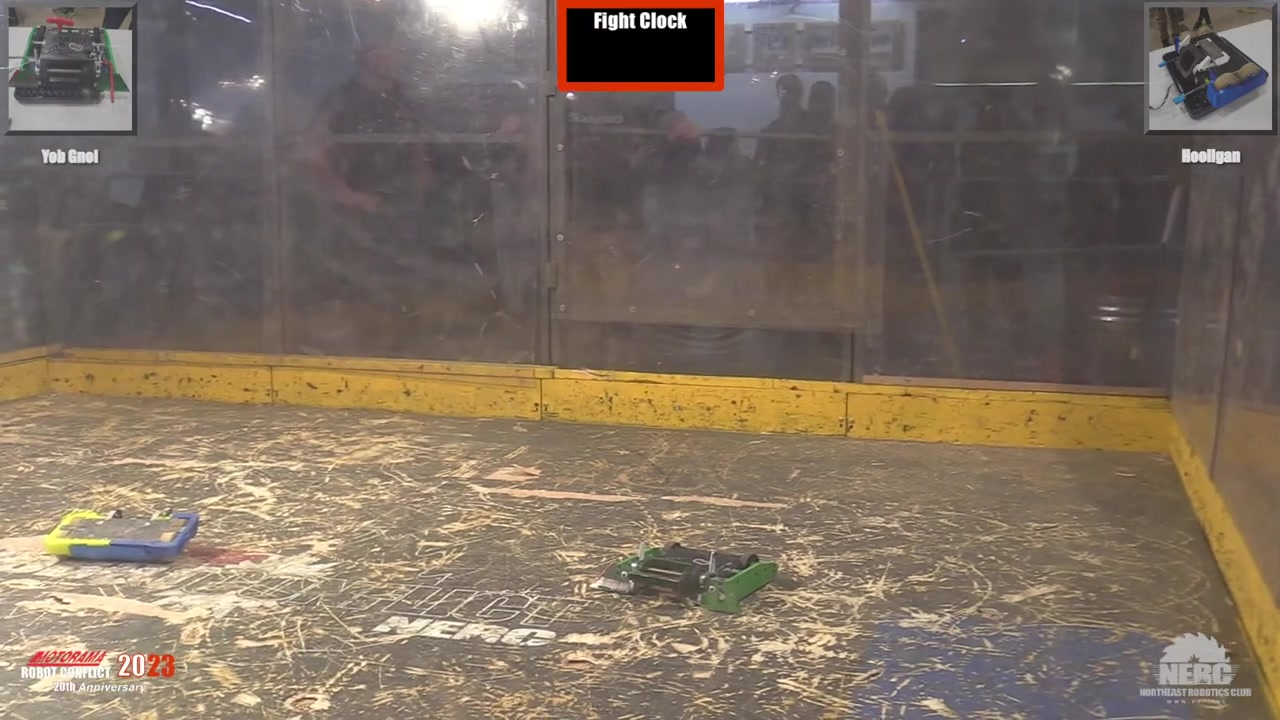combatbot: (590, 546, 777, 617), (47, 508, 201, 561)
